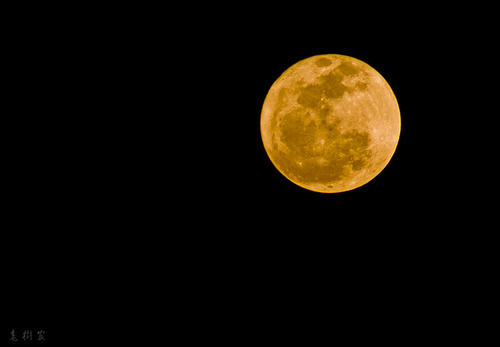moon: (259, 54, 401, 194)
